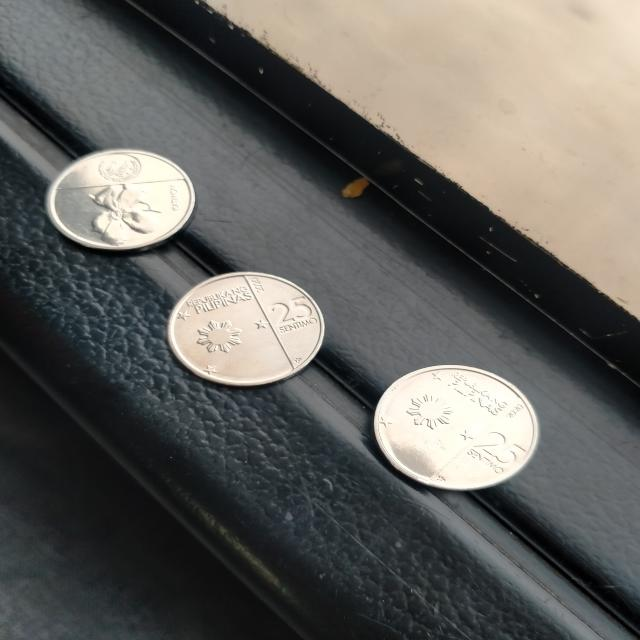25Cent_New_Back: (80, 184, 154, 243)
25Cent_New_Front: (462, 428, 524, 478), (262, 294, 317, 340)
